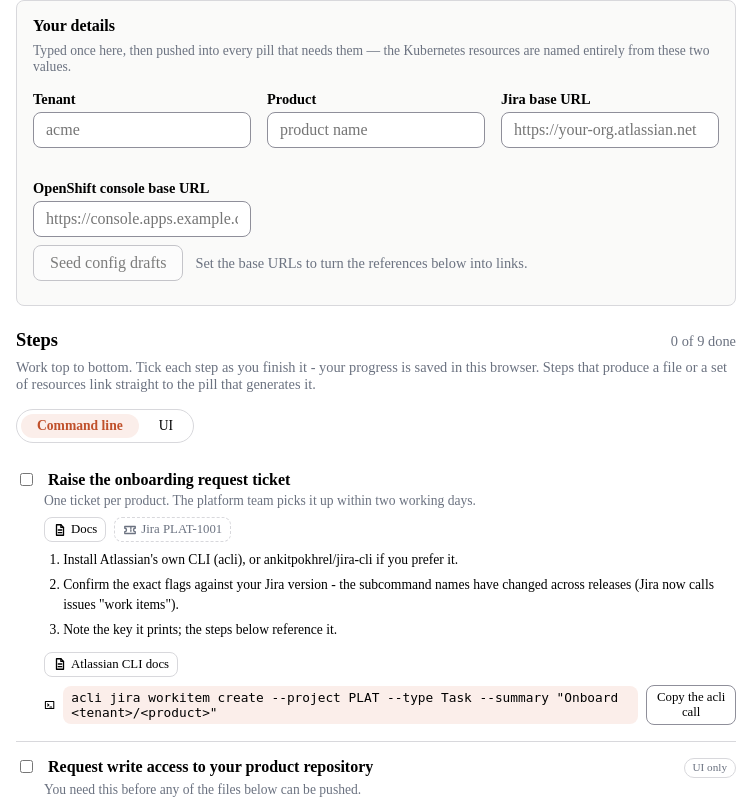
Test: OnboardingWorkspace › the CLI / UI switch › shows only the selected route when the step documents both
The width and height of the screenshot is (753, 797).
Expected: the list item "Install Atlassian's own CLI (acli), or ankitpokhrel/jira-cli if you prefer it." is shown, [63,552,458,567]
Expected: the text "Open your Jira project and pick the \"Platform onboarding\" request type." is not shown
Click the radio button labelled "UI": (166, 426) [159,418,173,433]
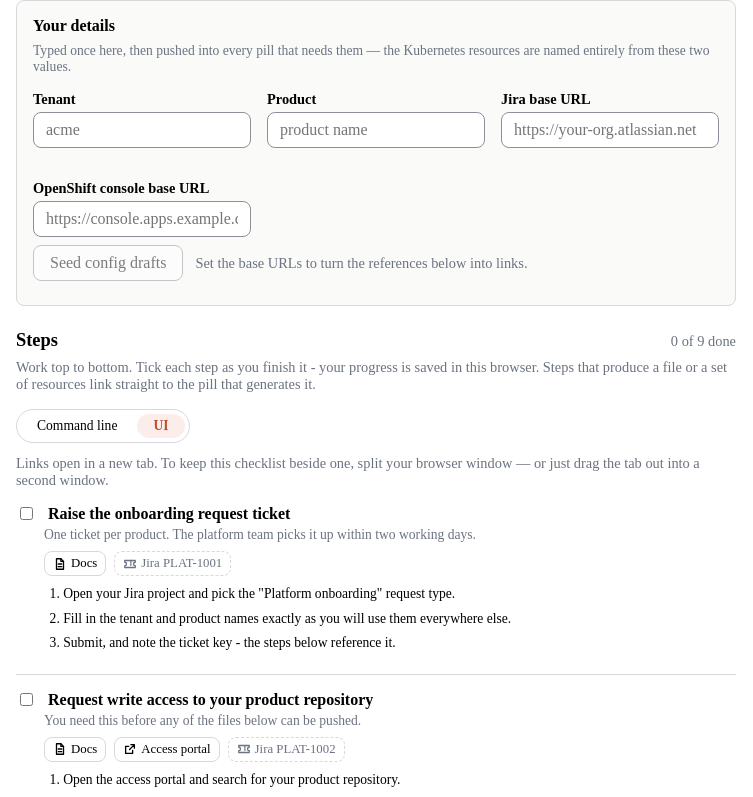
Expected: the list item "Open your Jira project and pick the \"Platform onboarding\" request type." is shown, [63,586,455,601]
Expected: the list item "Install Atlassian's own CLI (acli), or ankitpokhrel/jira-cli if you prefer it." is gone
